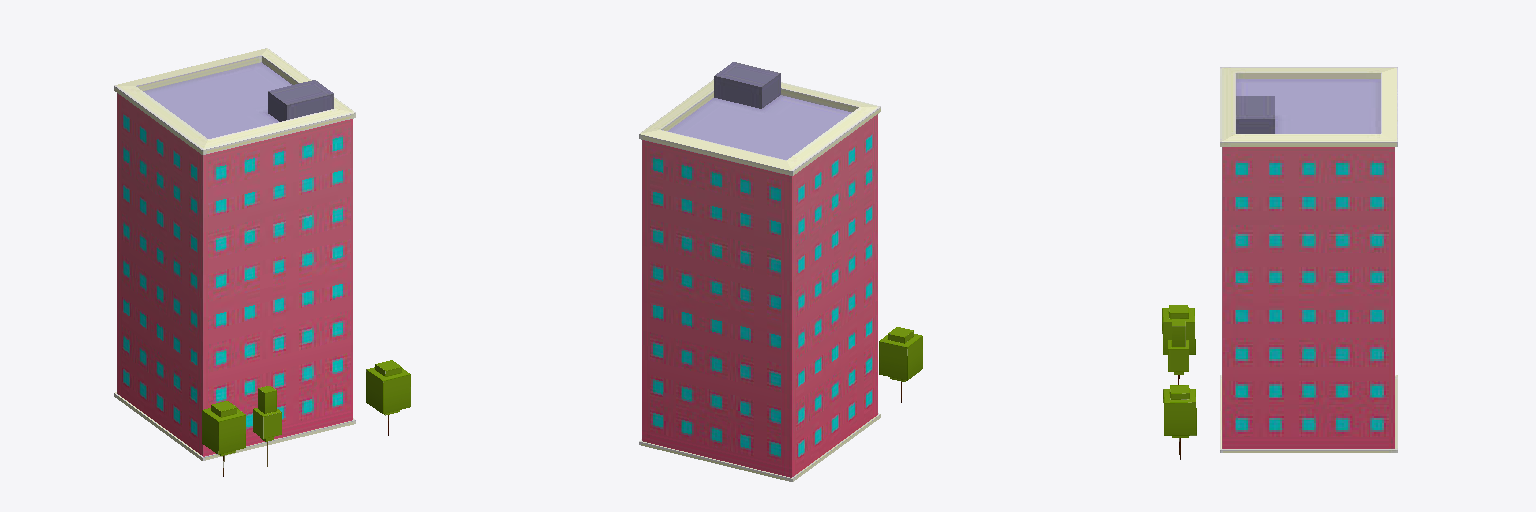
3 renders of one model, left to right at view 1: azimuth 30°, elevation 25°; view 2: azimuth 150°, elevation 25°; view 3: azimuth 270°, elevation 25°, orthographic.
Visible parts, largest first — view 1: living_red_2lvl_Mesh.135, Tree_3_499_2.014_Mesh.265, Tree_3_499_2.013_Mesh.263, Tree_2_3_61.025_Mesh.264; view 2: living_red_2lvl_Mesh.135, Tree_3_499_2.013_Mesh.263; view 3: living_red_2lvl_Mesh.135, Tree_3_499_2.014_Mesh.265, Tree_3_499_2.013_Mesh.263, Tree_2_3_61.025_Mesh.264.
Boxes of the visible parts, <box> form: living_red_2lvl_Mesh.135: <box>114,48,355,460</box>; Tree_3_499_2.014_Mesh.265: <box>366,360,410,435</box>; Tree_3_499_2.013_Mesh.263: <box>202,401,245,476</box>; Tree_2_3_61.025_Mesh.264: <box>253,386,281,466</box>; living_red_2lvl_Mesh.135: <box>639,62,880,481</box>; Tree_3_499_2.013_Mesh.263: <box>879,327,922,402</box>; living_red_2lvl_Mesh.135: <box>1220,67,1397,452</box>; Tree_3_499_2.014_Mesh.265: <box>1163,385,1196,459</box>; Tree_3_499_2.013_Mesh.263: <box>1162,305,1195,378</box>; Tree_2_3_61.025_Mesh.264: <box>1168,321,1188,384</box>.
Size of the model in its own units: 1.63 by 2.65 by 1.71.
Materials: 3 (3 with a texture image).